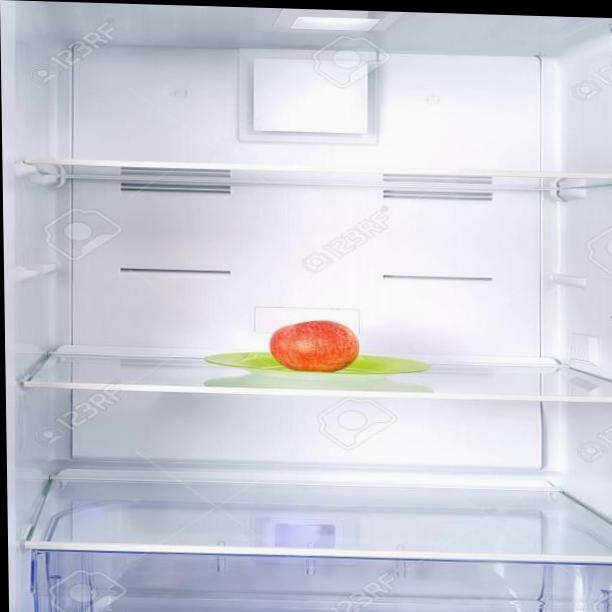apple: (272, 319, 362, 374)
